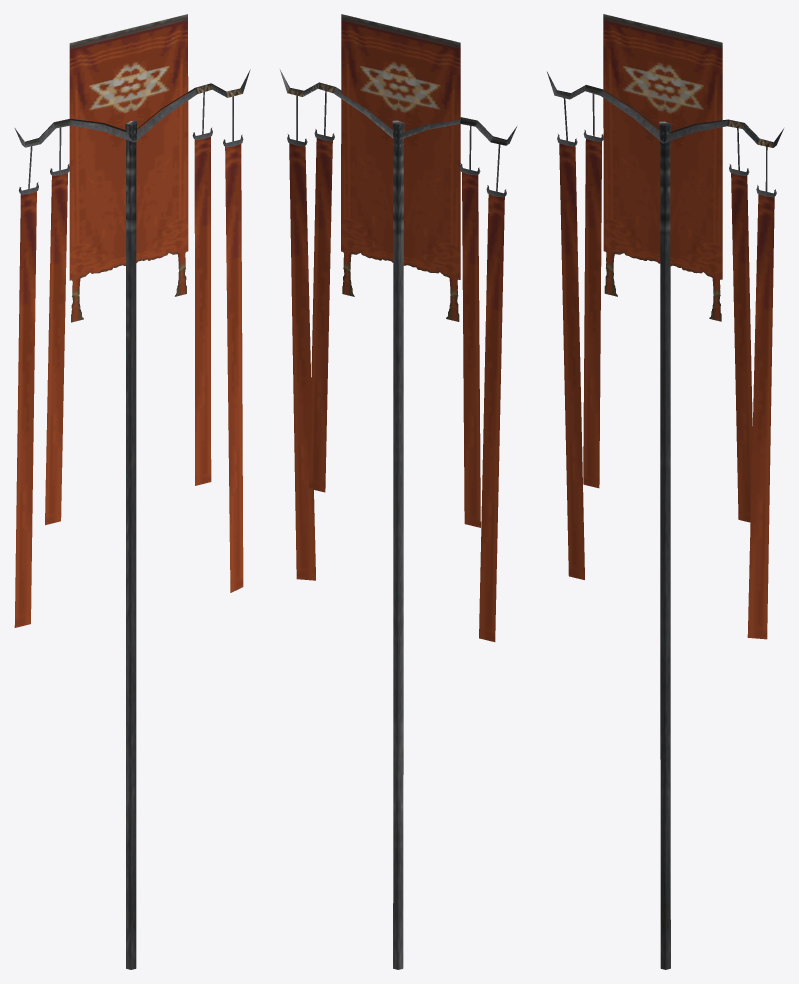
File: Plant_3002_dataoshu_qizi01.FBX
The picture shows the model from 3 angles, left to right: view 1: azimuth 30°, elevation 25°; view 2: azimuth 150°, elevation 25°; view 3: azimuth 330°, elevation 25°; orthographic projection.
Visible parts, largest first — view 1: Plant_3002_dataoshu_qizi01; view 2: Plant_3002_dataoshu_qizi01; view 3: Plant_3002_dataoshu_qizi01.
Boxes of the visible parts, left/top/right/bottom form: Plant_3002_dataoshu_qizi01: left=14, top=14, right=250, bottom=969; Plant_3002_dataoshu_qizi01: left=279, top=14, right=516, bottom=969; Plant_3002_dataoshu_qizi01: left=547, top=14, right=783, bottom=969.
Bounding box in the file's own units: 413 × 1562 × 55.64.
